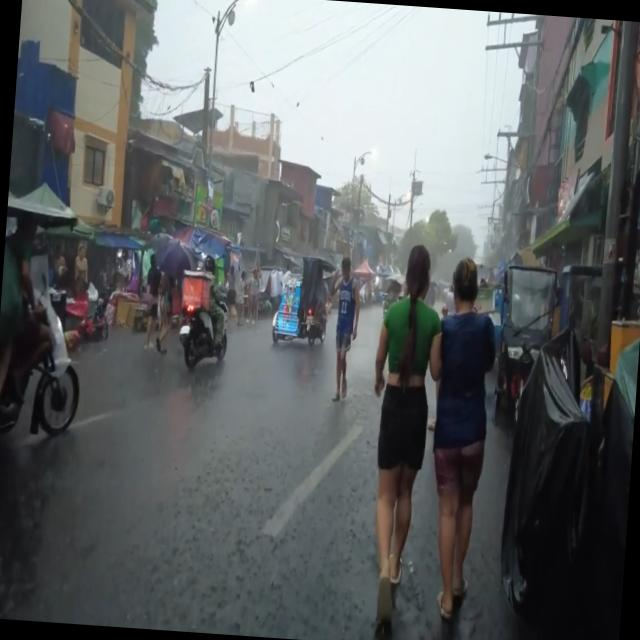full: (202, 253, 217, 278)
